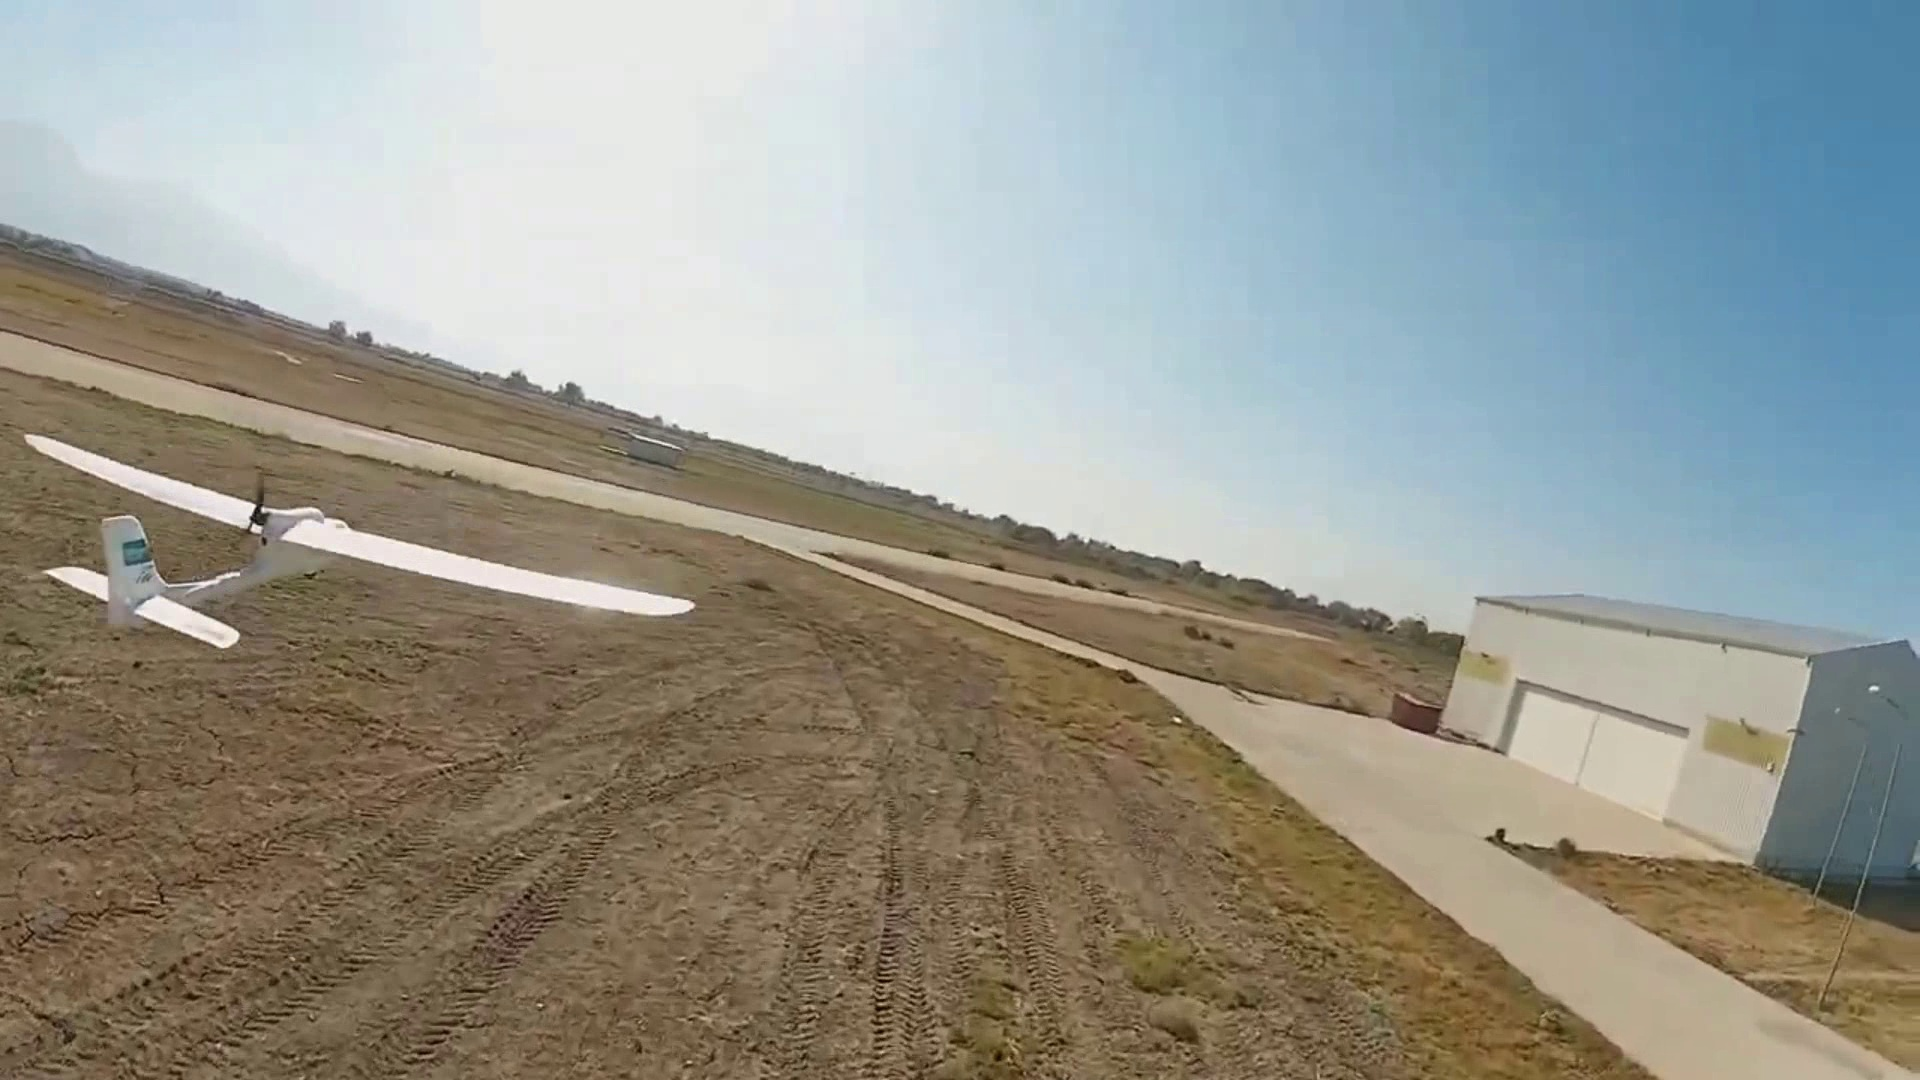airplane: (17, 427, 698, 645)
